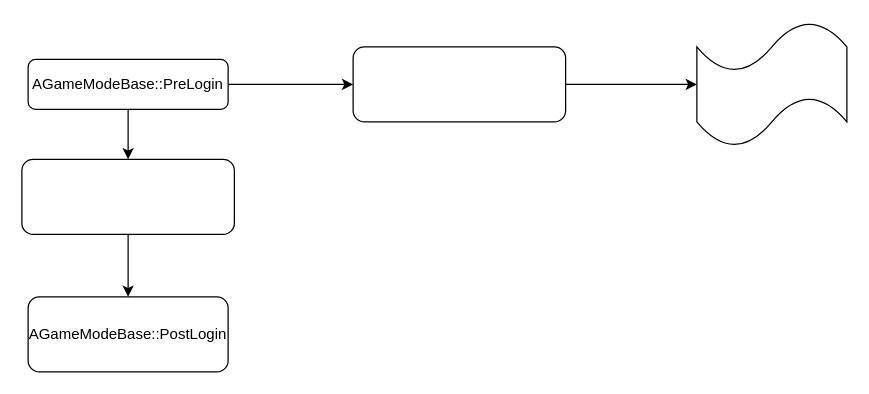
The diagram is 869 pixels wide and 394 high, and some of its shapes have lost their labels. Here are the shapes that lost their labels. From the top down, the box of each, then its label:
(352, 46, 566, 122): AGameSession::ApproveLogin 批准登录
(21, 158, 234, 234): AGameModeBase::Login
